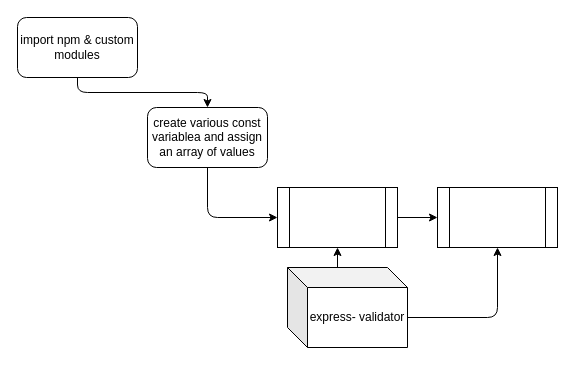
The diagram is 575 pixels wide and 365 high, and some of its shapes have lost their labels. Each missing label, with the centre of its shape:
"chain methods to body like exists() or withMessage()" belongs at (497,217).
"each value in a body or check method" belongs at (337,217).
